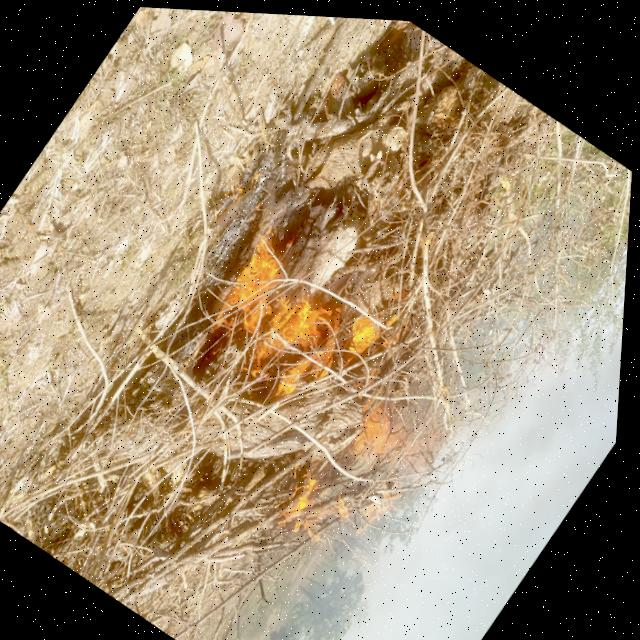Fire: (188, 216, 407, 425)
